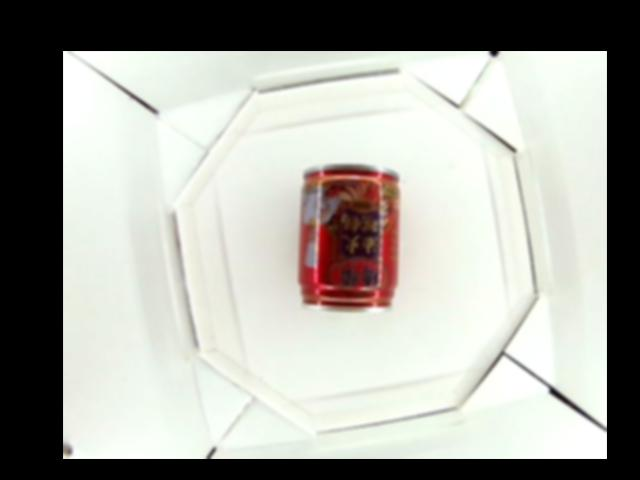Bottle: (298, 165, 397, 313)
